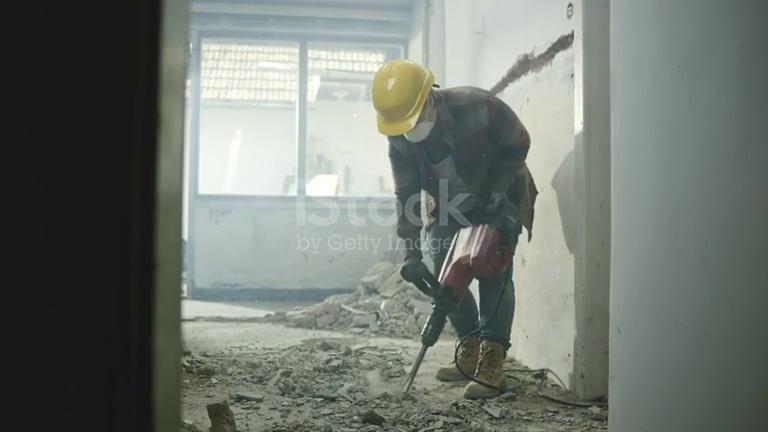helmet: (371, 58, 436, 138)
mask: (402, 118, 433, 145)
person: (371, 59, 539, 398)
